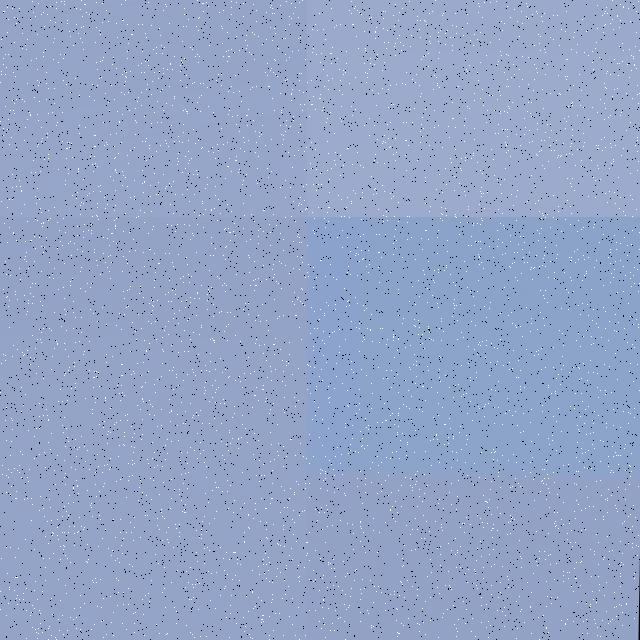drone: (0, 0, 307, 217)
